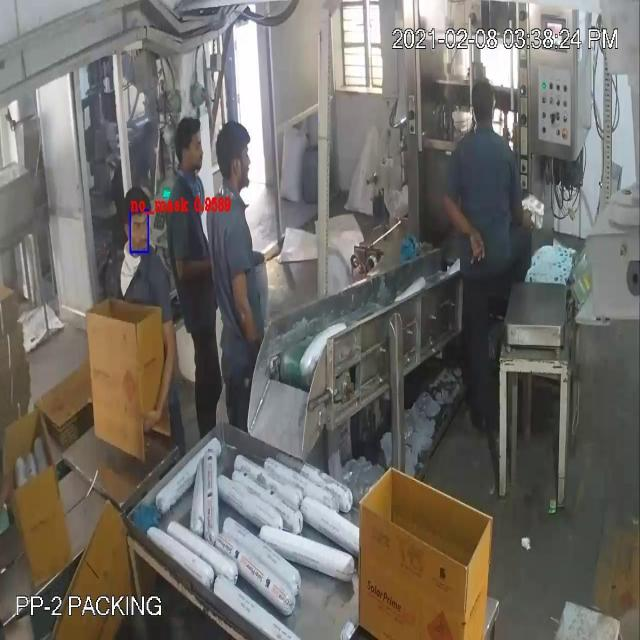No_Gloves: (38, 103, 469, 361)
